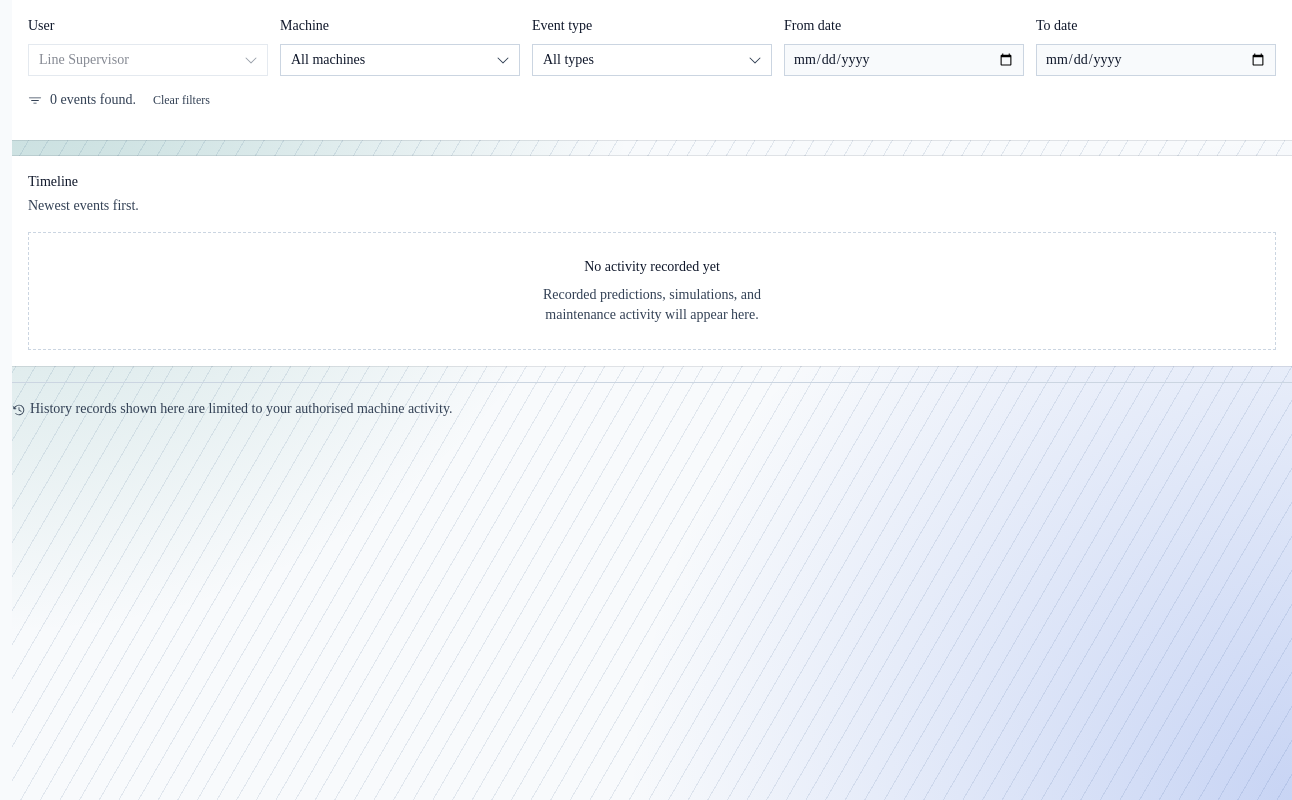
history distinguishes an empty audit log from filters that found no matches
Expected: the text "No activity recorded yet" is shown, x1=584 y1=257 x2=720 y2=277
In the date field labelled "From date": (904, 60) x1=784 y1=44 x2=1024 y2=76, type "2026-10-15"
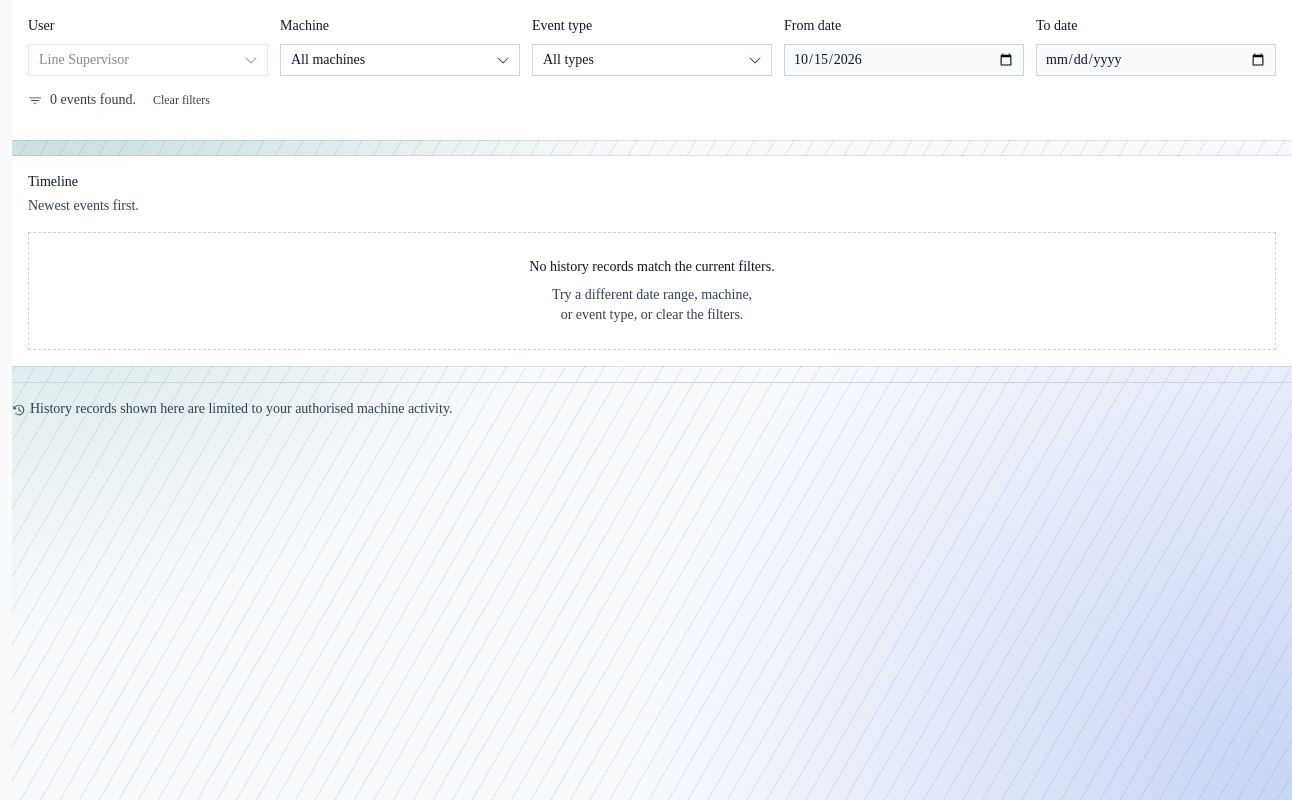
Result: the text "No history records match the current filters." is shown at x1=529 y1=257 x2=775 y2=277
Result: the text "Try a different date range, machine, or event type, or clear the filters." is shown at x1=552 y1=287 x2=752 y2=322
